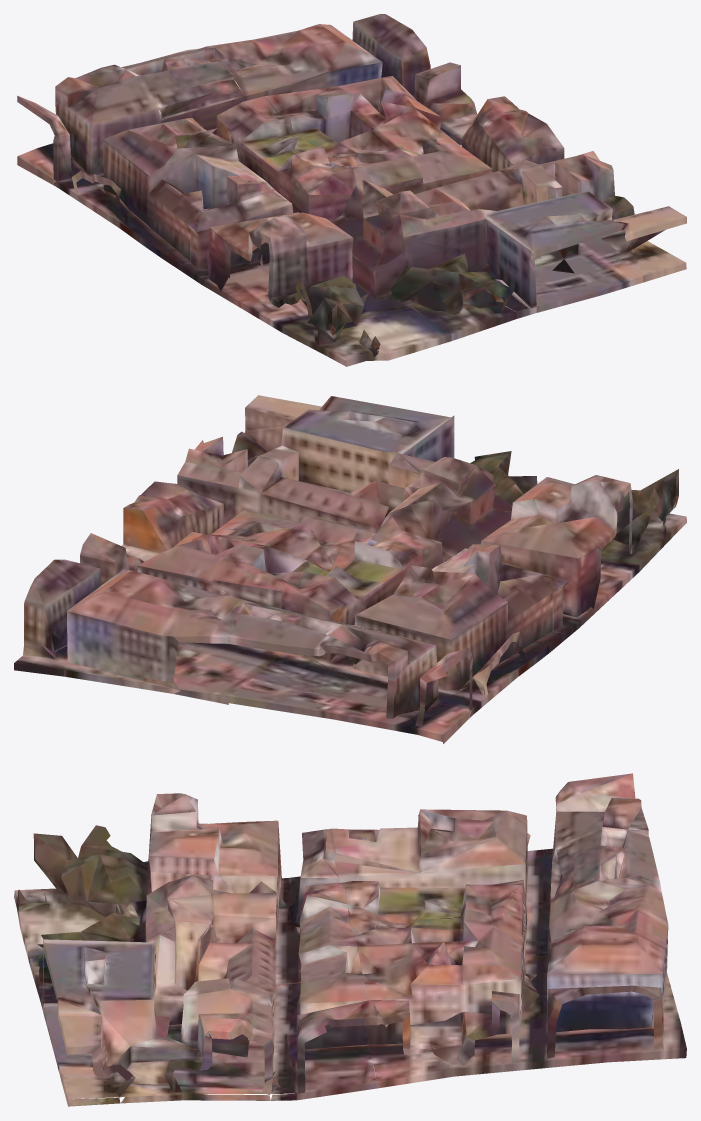
The picture shows the model from 3 angles, top to bottom: view 1: azimuth 30°, elevation 25°; view 2: azimuth 150°, elevation 25°; view 3: azimuth 270°, elevation 25°; orthographic projection. The views are drawn at different scales.
Parts seen in each view (by area): view 1: Mesh_0; view 2: Mesh_0; view 3: Mesh_0.
Part boxes in pixels (x1=…): Mesh_0: x1=17, y1=14, x2=686, y2=366; Mesh_0: x1=14, y1=395, x2=686, y2=743; Mesh_0: x1=14, y1=773, x2=686, y2=1106.
Size of the model in its own units: 134 by 32.07 by 165.
1 material, 1 textured.
